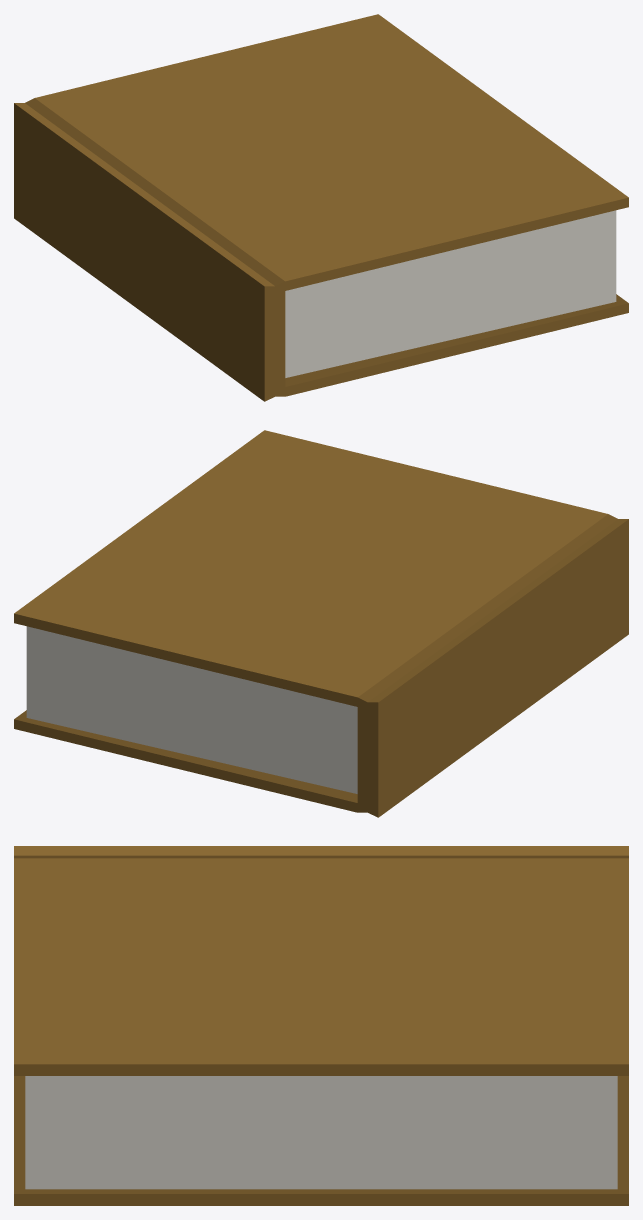
Rendered from book.fbx.
The picture shows the model from 3 angles, top to bottom: view 1: azimuth 30°, elevation 25°; view 2: azimuth 150°, elevation 25°; view 3: azimuth 270°, elevation 25°; orthographic projection. The views are drawn at different scales.
Visible parts, largest first — view 1: pCube178; view 2: pCube178; view 3: pCube178.
Part boxes in pixels (x1=…): pCube178: x1=14, y1=14, x2=628, y2=401; pCube178: x1=14, y1=430, x2=628, y2=817; pCube178: x1=14, y1=846, x2=628, y2=1205.
Size of the model in its own units: 0.0331 by 0.01 by 0.0394.
